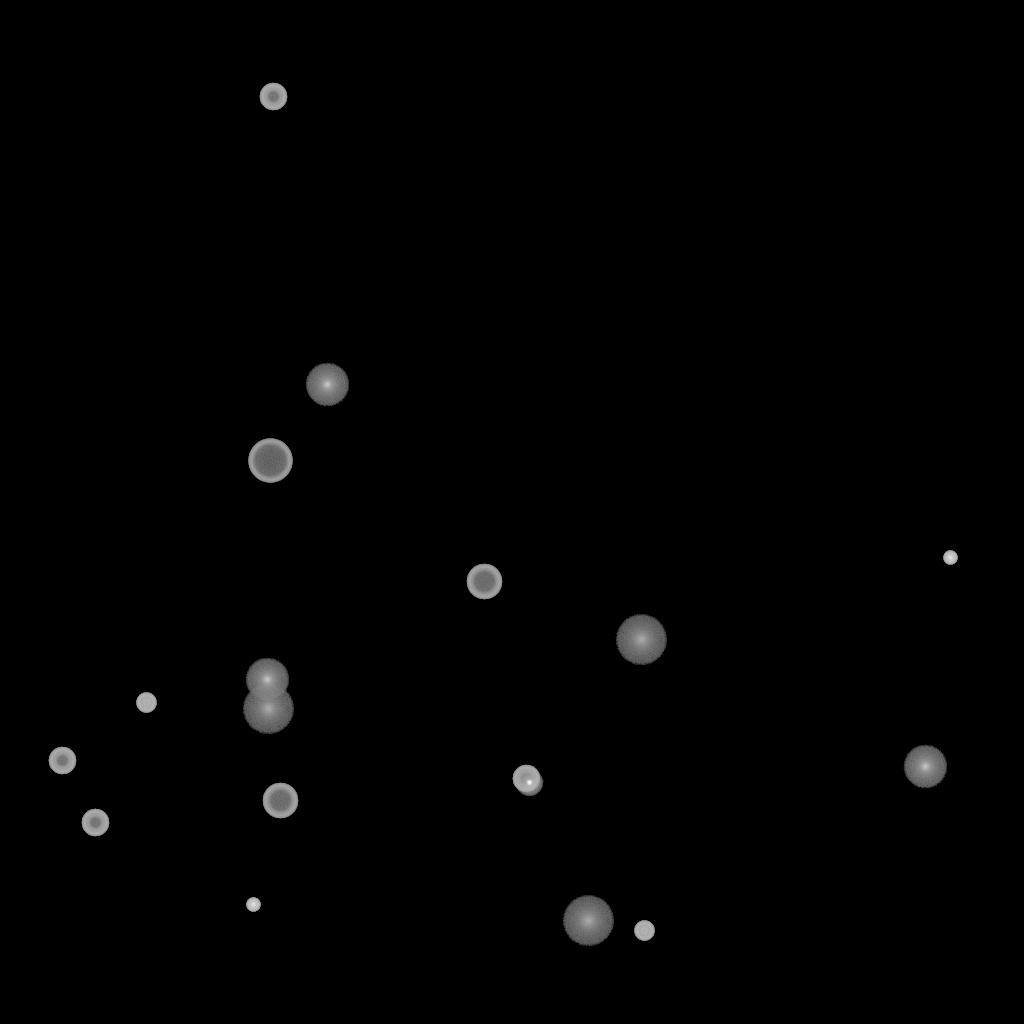depth:-10: (515, 769, 543, 797)
depth:-30: (246, 898, 260, 912), (943, 551, 957, 565)
depth:-40: (634, 921, 654, 941), (136, 693, 156, 713)
depth:-50: (81, 809, 109, 837), (48, 747, 76, 775), (259, 83, 287, 111), (512, 765, 540, 793)
depth:-60: (466, 564, 502, 600), (262, 783, 298, 819)
depth:-70: (248, 439, 292, 483)
depth:10: (903, 745, 947, 789), (245, 658, 289, 702), (305, 363, 349, 407)
depth:20: (562, 896, 614, 946), (242, 684, 294, 734), (615, 615, 667, 665)
